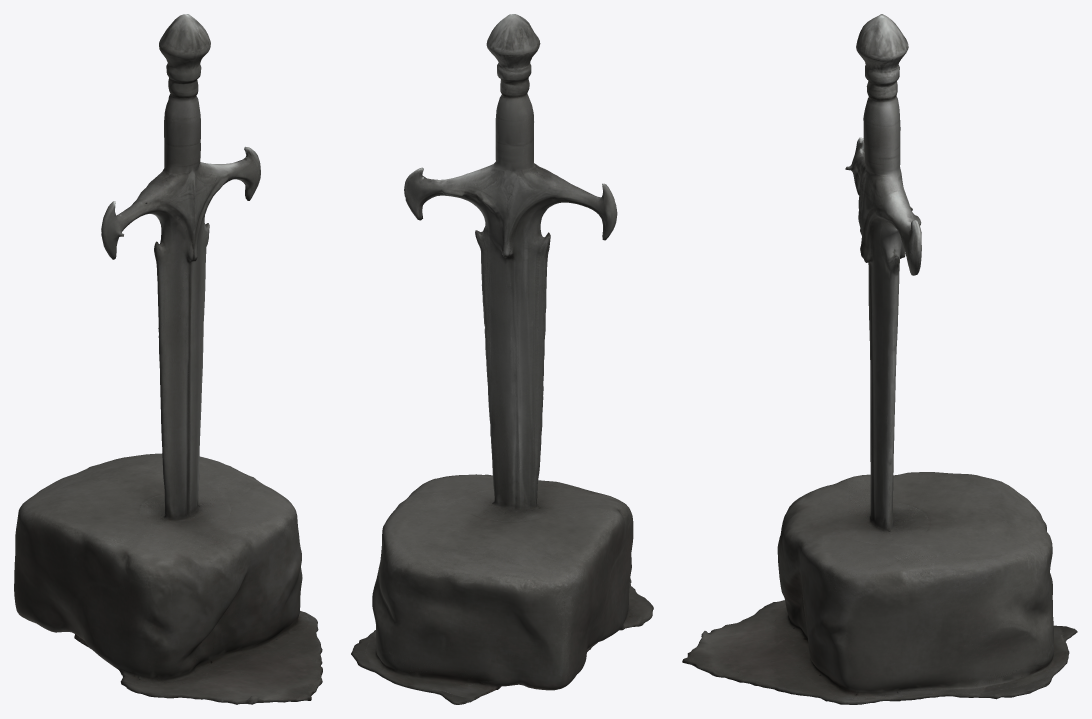
File: weapon_sword_in_stone.glb
3 renders of one model, left to right at view 1: azimuth 30°, elevation 25°; view 2: azimuth 150°, elevation 25°; view 3: azimuth 270°, elevation 25°, orthographic. The views are drawn at different scales.
Bounding box in the file's own units: 0.7708 × 2 × 1.13.
1 material, 1 textured.
